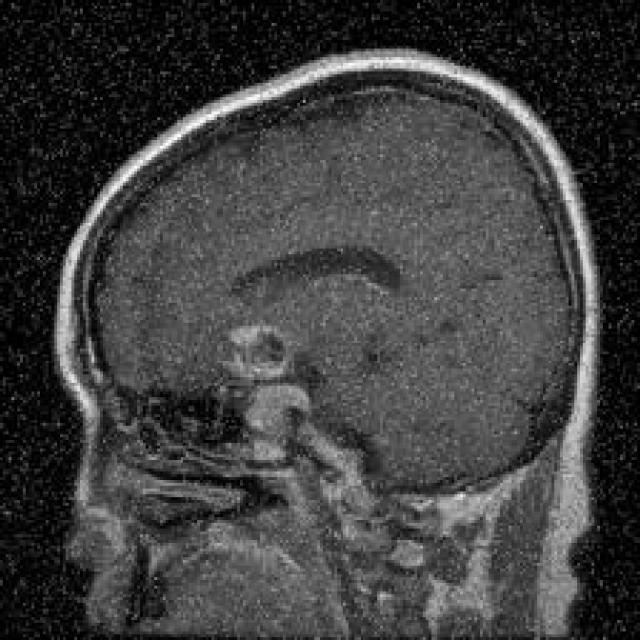pituitary_tumor: (202, 308, 342, 469)
